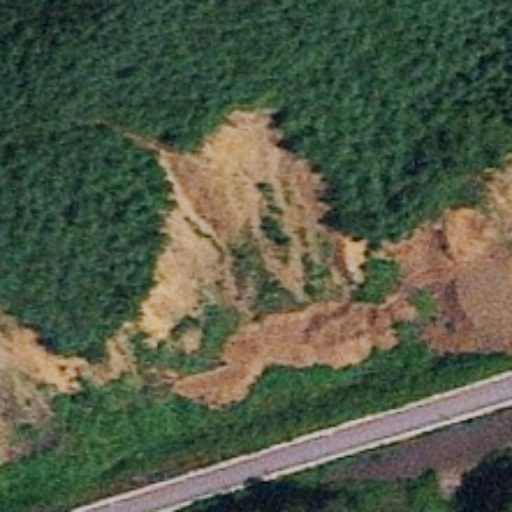landslide: (104, 106, 507, 399), (5, 312, 91, 464)
